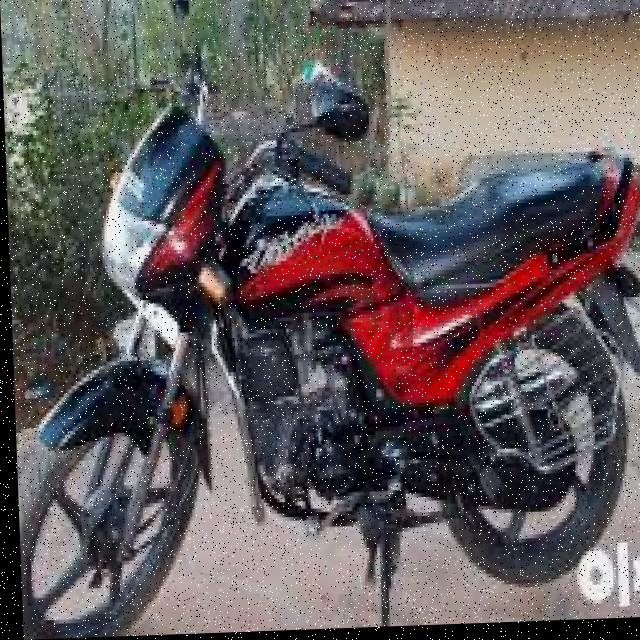bike: (2, 52, 640, 640)
